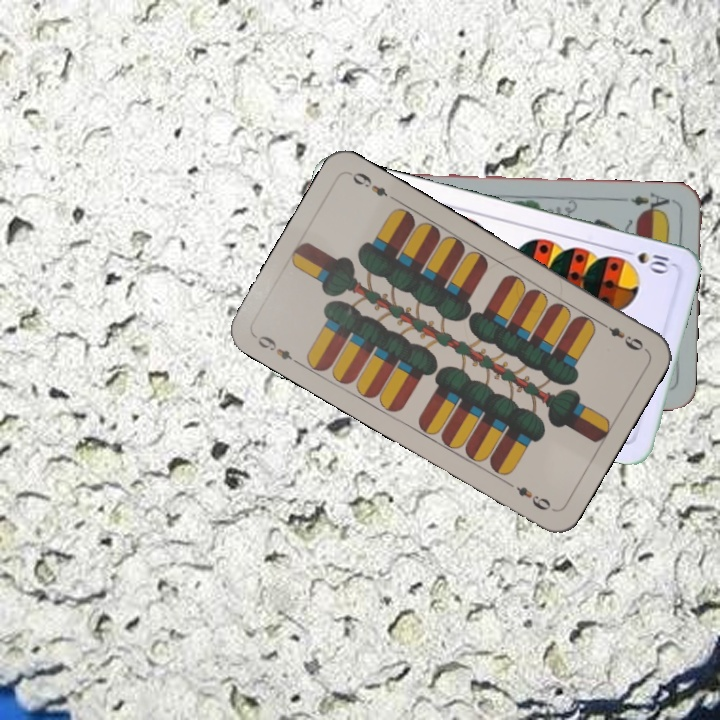E9: (595, 317, 649, 354), (250, 331, 304, 368)
EA: (626, 188, 678, 216)
S10: (618, 245, 672, 275)
